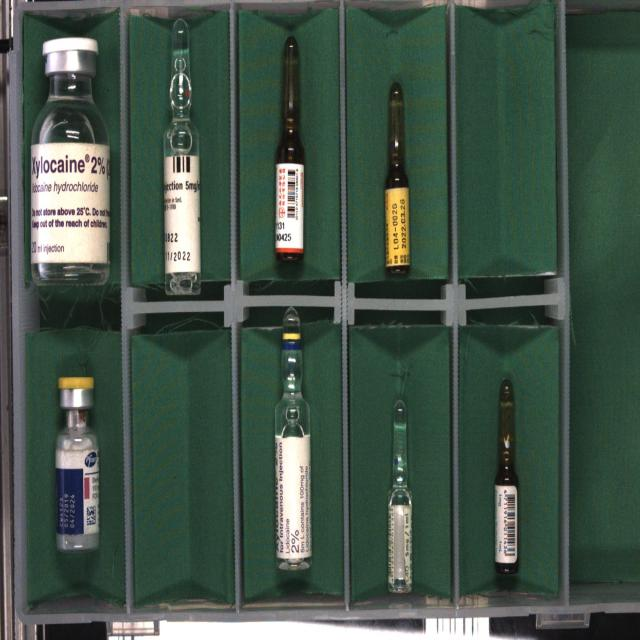Vials: (30, 37, 110, 286), (55, 377, 99, 551)
